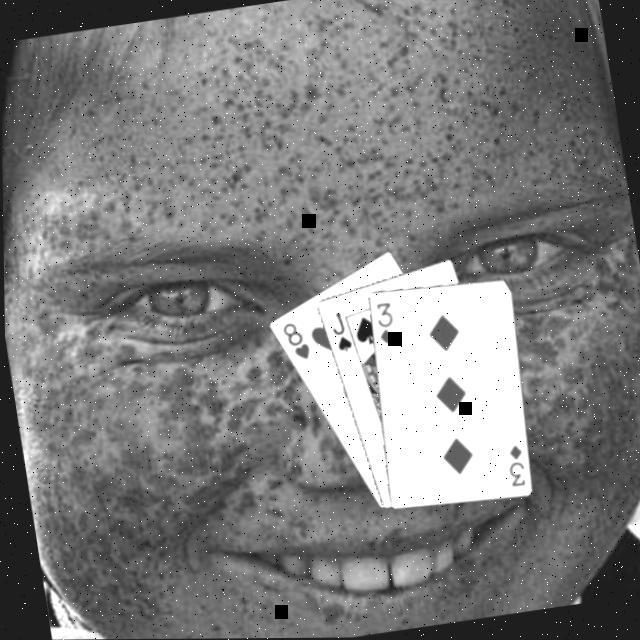3D: (367, 297, 396, 347), (499, 439, 527, 488)
8H: (274, 315, 311, 364)
JS: (323, 306, 353, 355)
